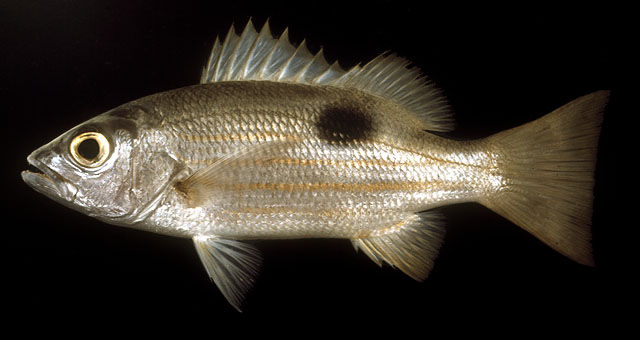fish: (21, 17, 609, 313)
